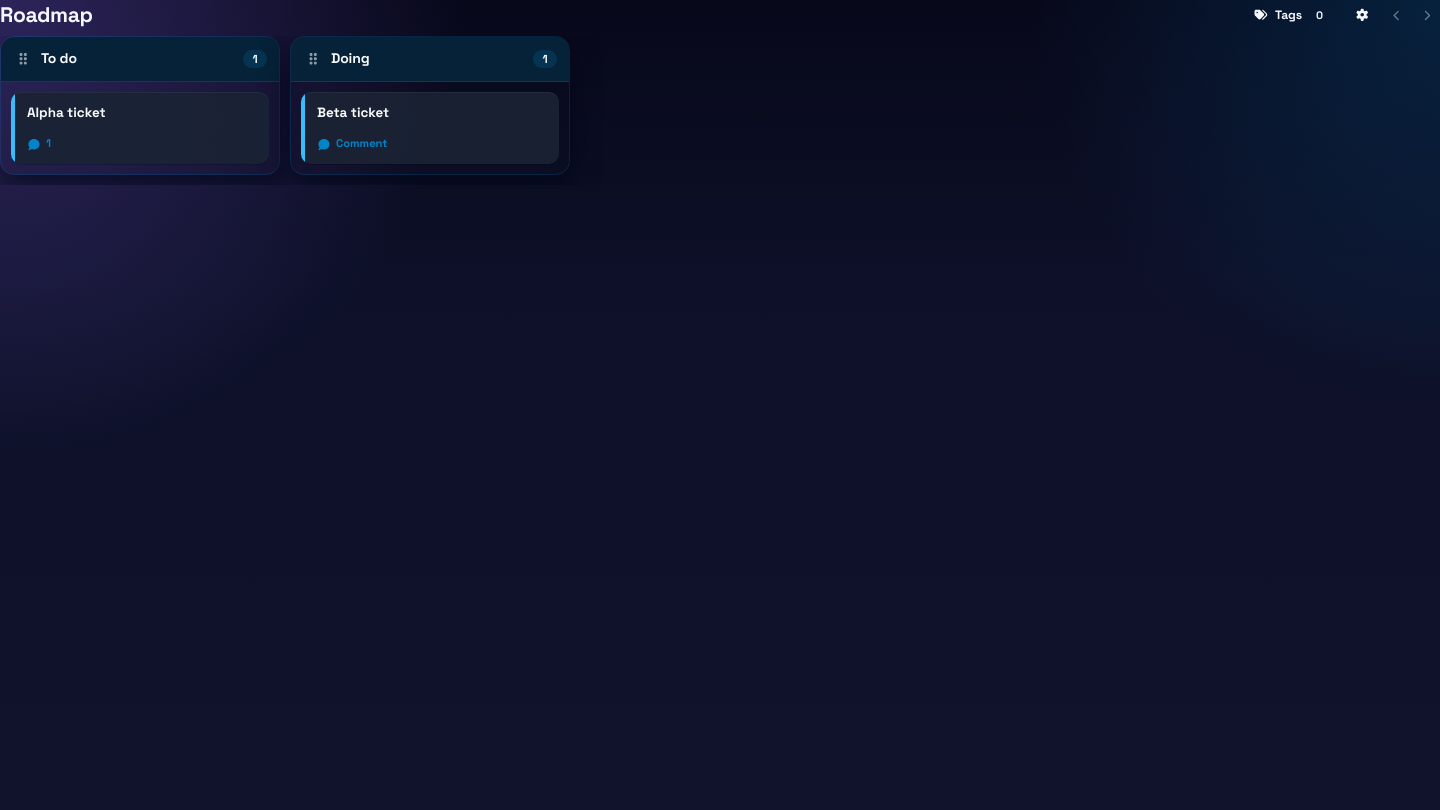
it: KanbanBoard board chrome › requires the board name before deleting from board settings
Click the button named "Board settings".
click(1362, 15)  # box [1348,1,1376,29]
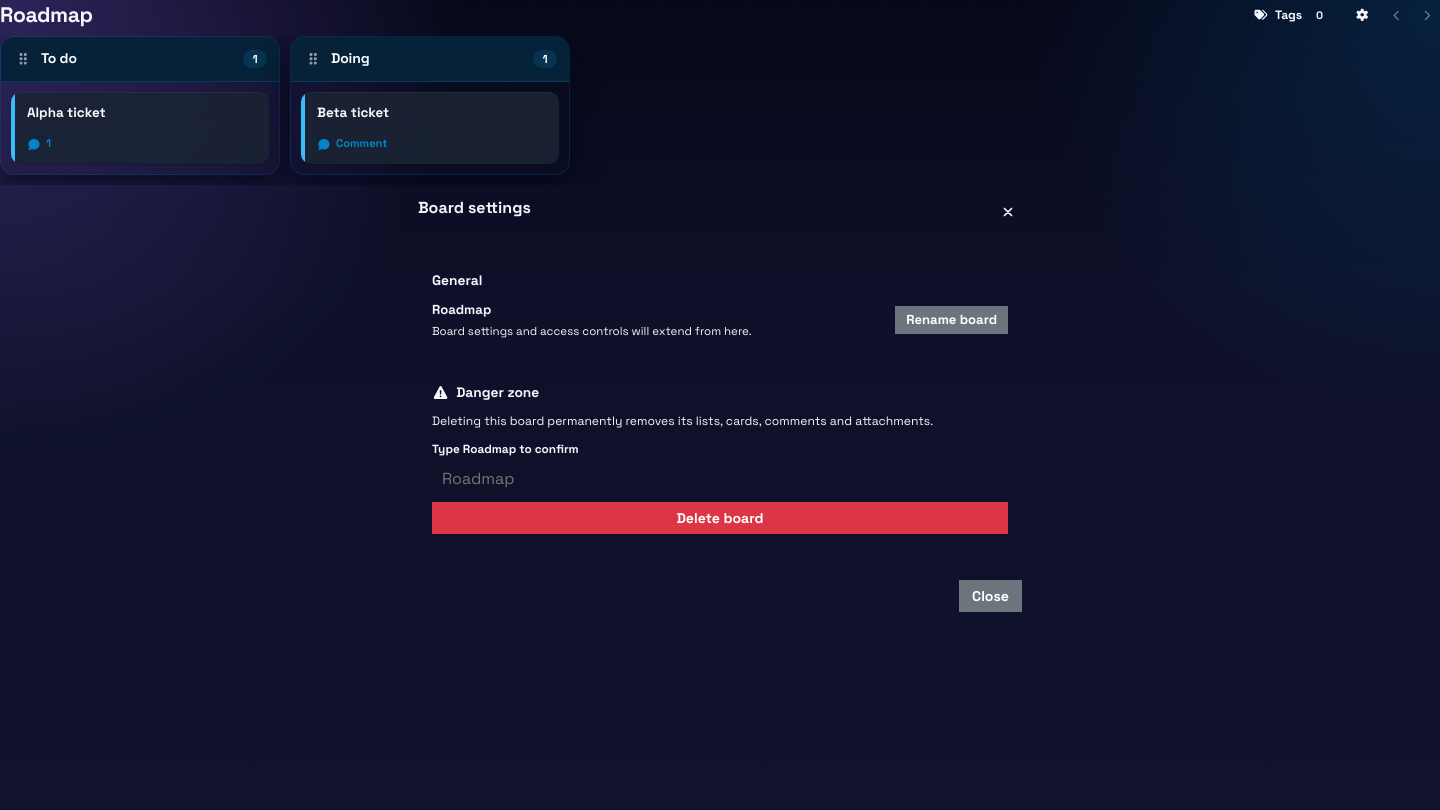
Result: the dialog "Board settings" is shown at [400,180,1040,630]
Result: the button "Delete board" is disabled at [432,502,1008,534]
Type "roadmap" into the field labelled "Type Roadmap to confirm".
click(720, 480); type("roadmap")  # box [432,467,1008,492]
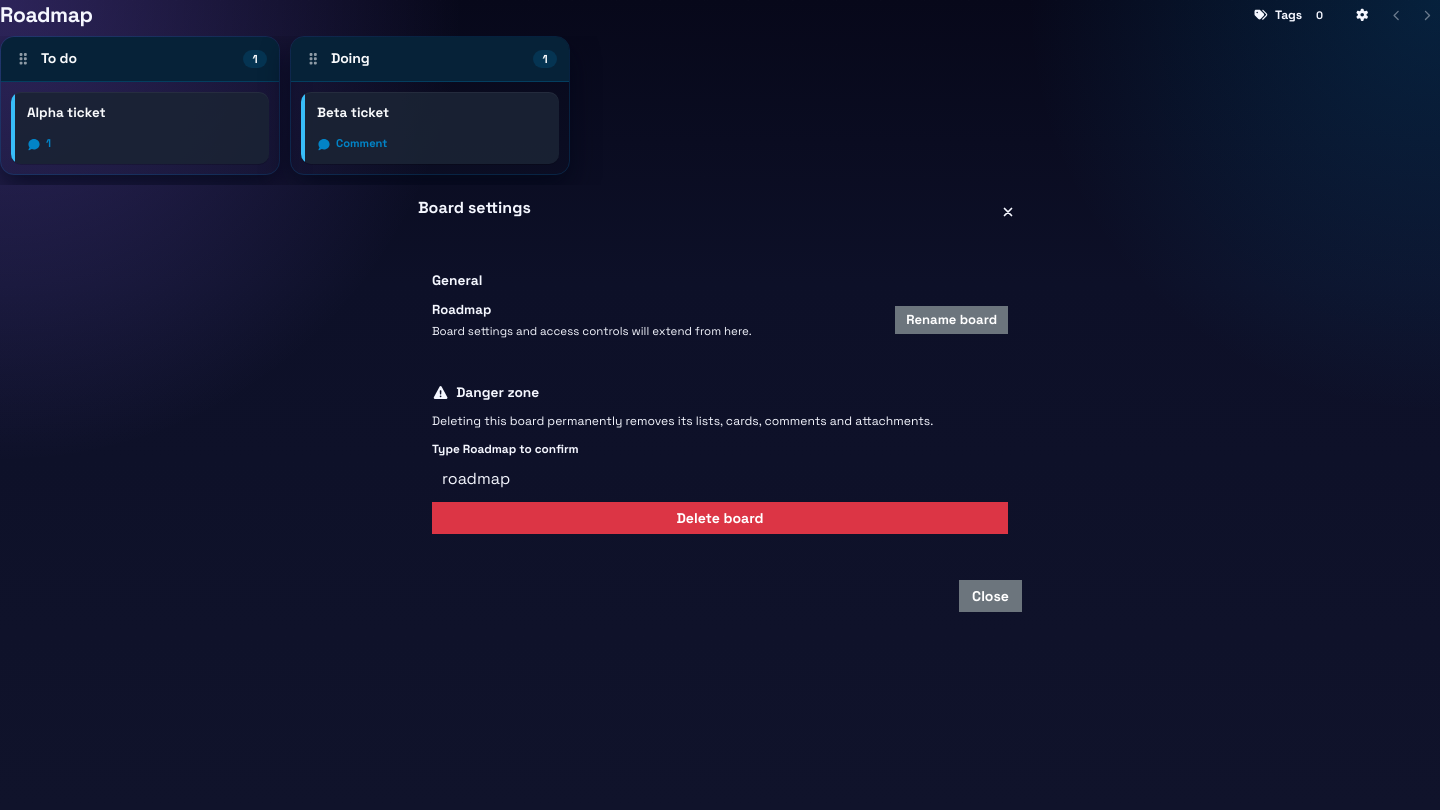
Result: the button "Delete board" is disabled at [432,502,1008,534]
Replace the text in the field labelled "Type Roadmap to confirm" with "Roadmap" at (720, 480), box [432,467,1008,492]
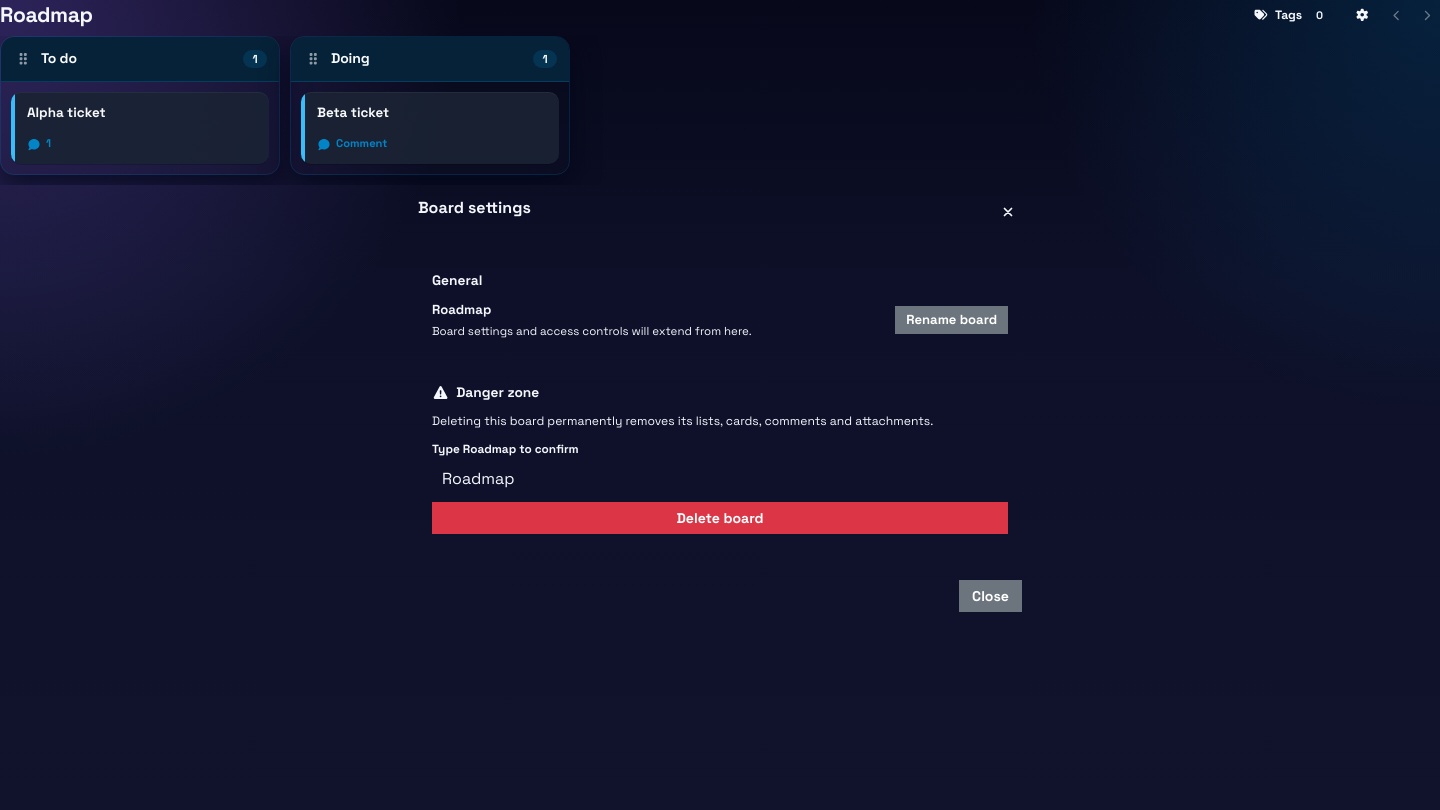
Click the button "Delete board".
click(720, 518)  # box [432,502,1008,534]
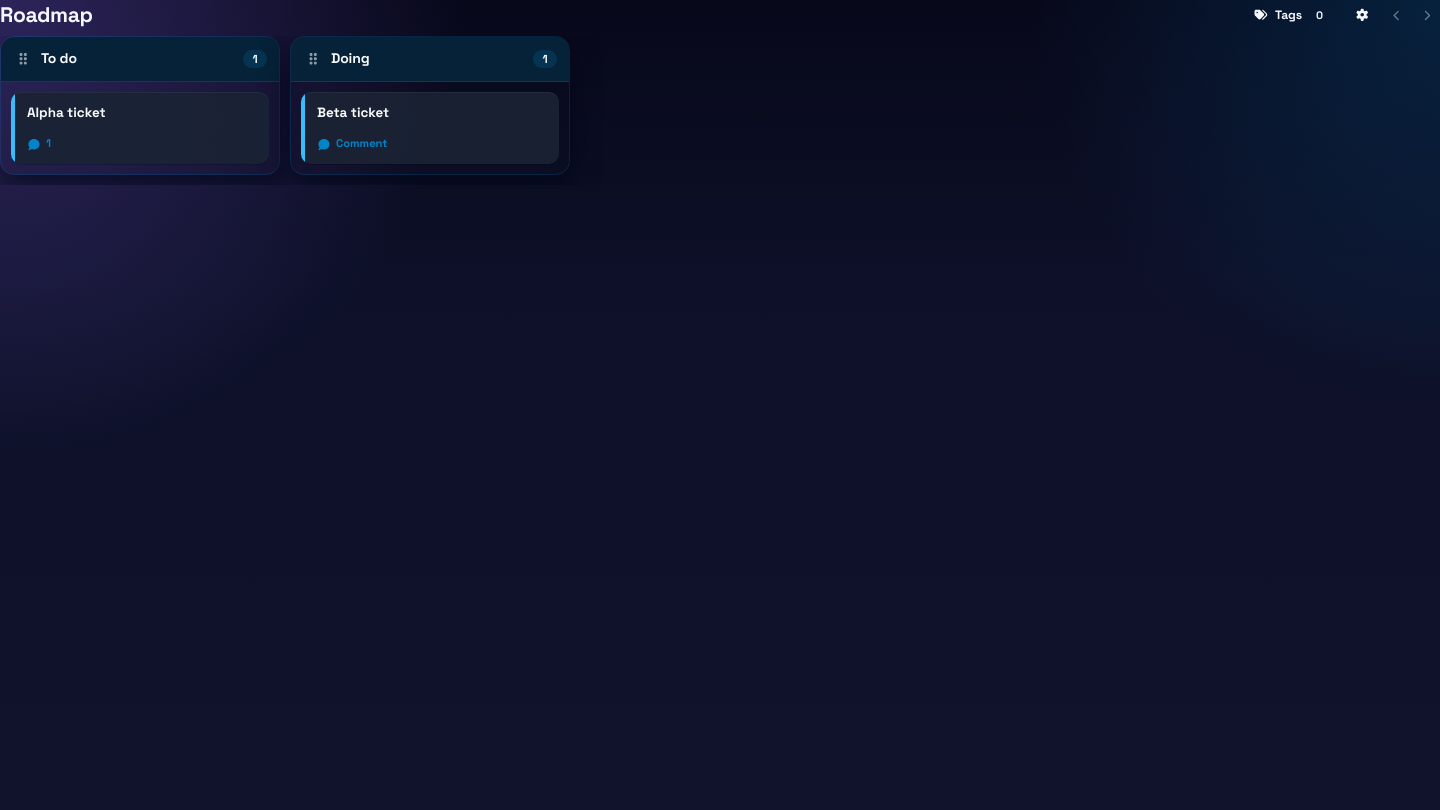
Result: the heading "Board settings" is gone
